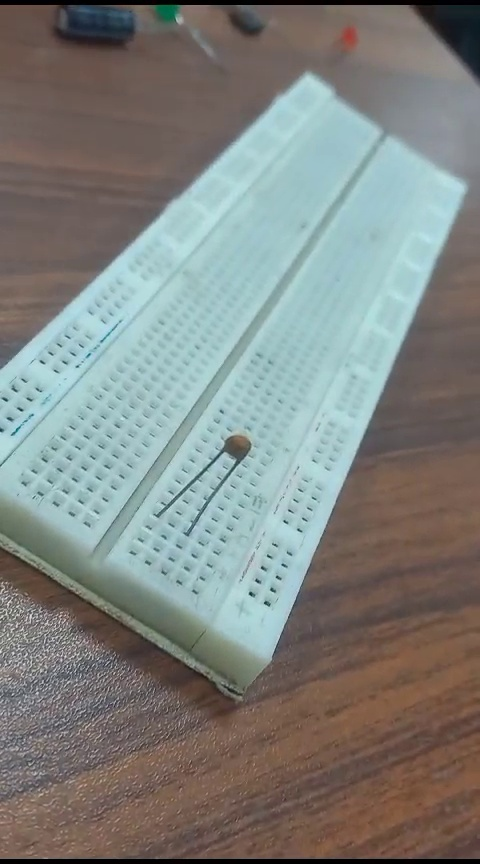ceramic capacitor: (155, 423, 264, 551)
